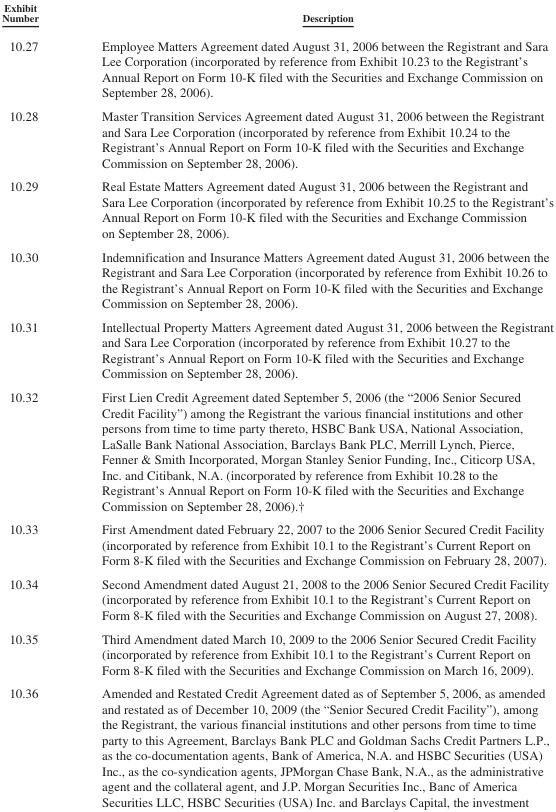table: (1, 1, 553, 808)
table column: (69, 1, 553, 808), (1, 1, 69, 808)
table column header: (1, 1, 553, 30)
table row: (1, 384, 553, 517), (1, 681, 553, 808), (1, 30, 553, 103), (1, 103, 553, 174), (1, 174, 553, 244), (1, 244, 553, 314), (1, 314, 553, 384), (1, 571, 553, 626), (1, 626, 553, 681), (1, 517, 553, 571), (1, 1, 553, 30)
